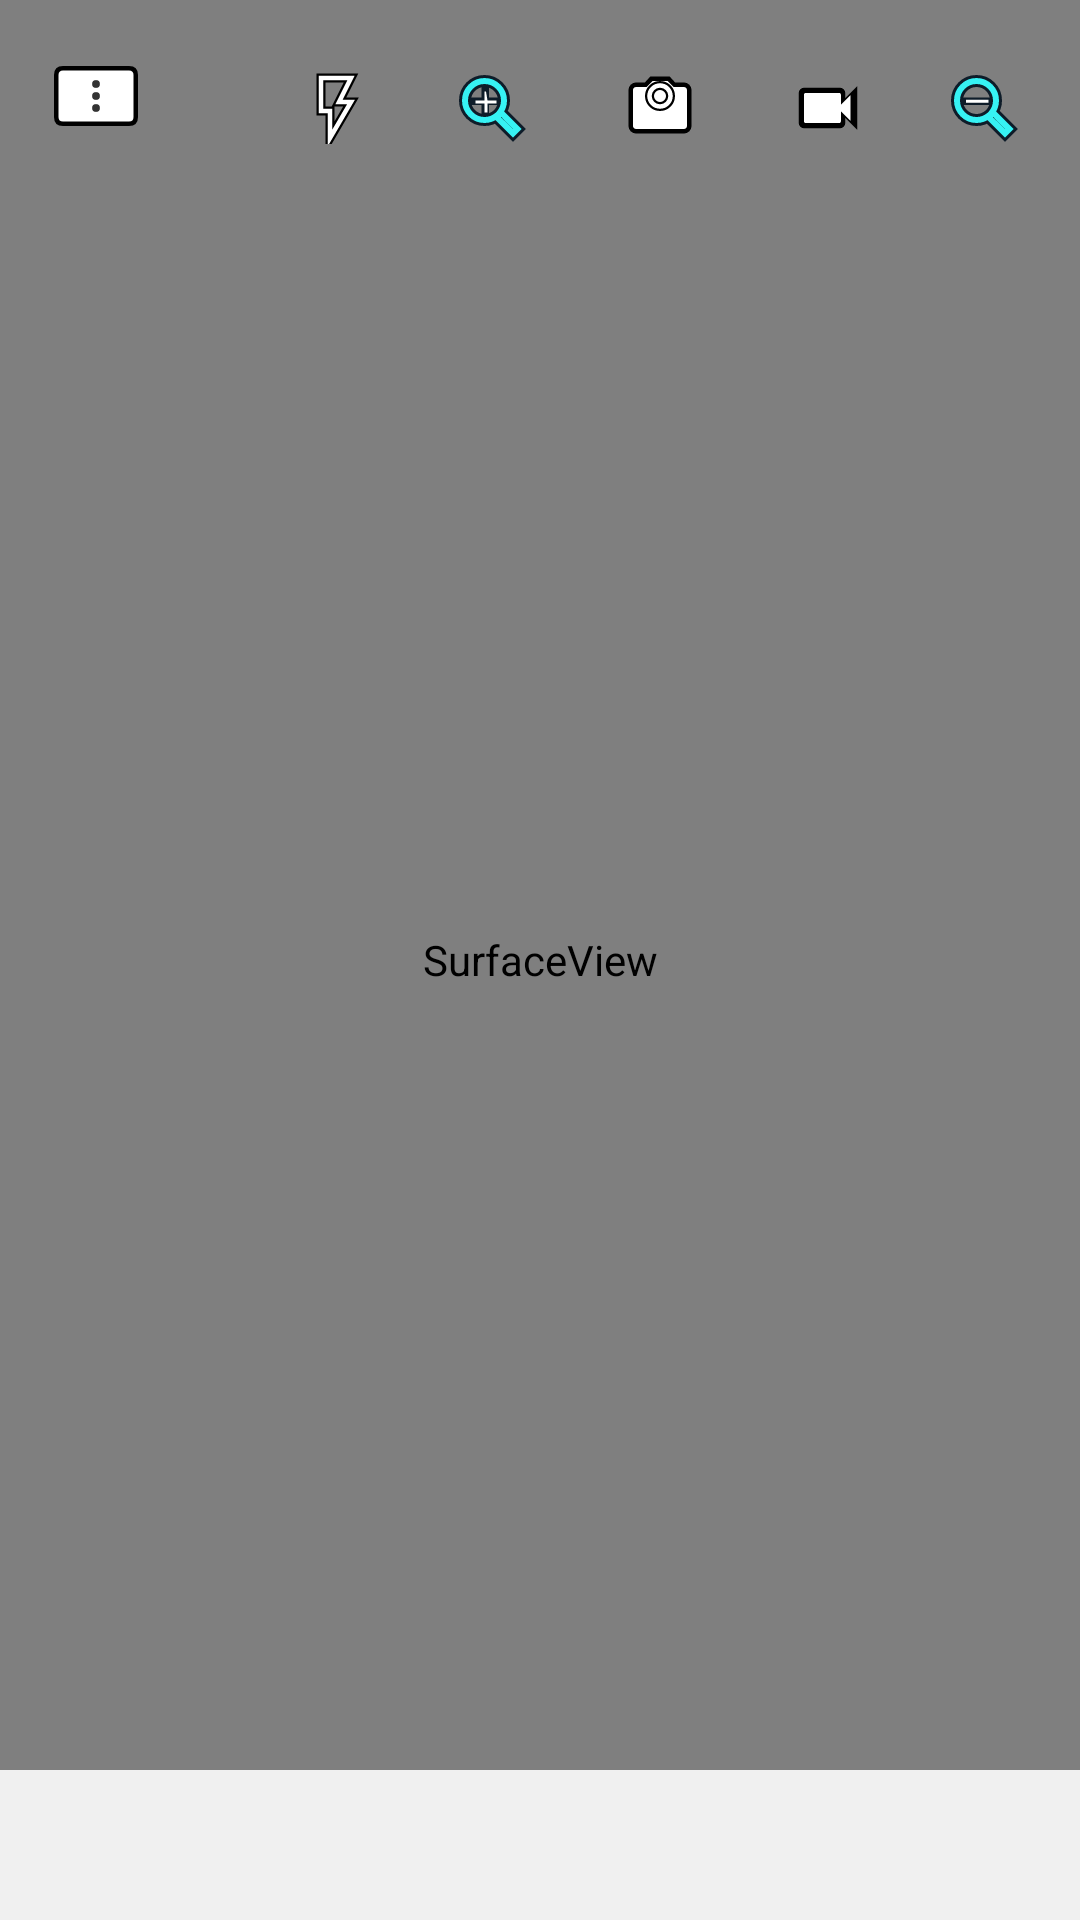

Icons on this 1080*1920 Android screen, each with the point to tap as point (x, y):
camera: point (660, 105)
Flash: point (337, 108)
Grabar Video: point (828, 108)
Menu: point (96, 96)
Zoom In: point (492, 108)
Zoom Out: point (984, 108)
